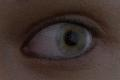eye: (55, 24, 87, 56)
